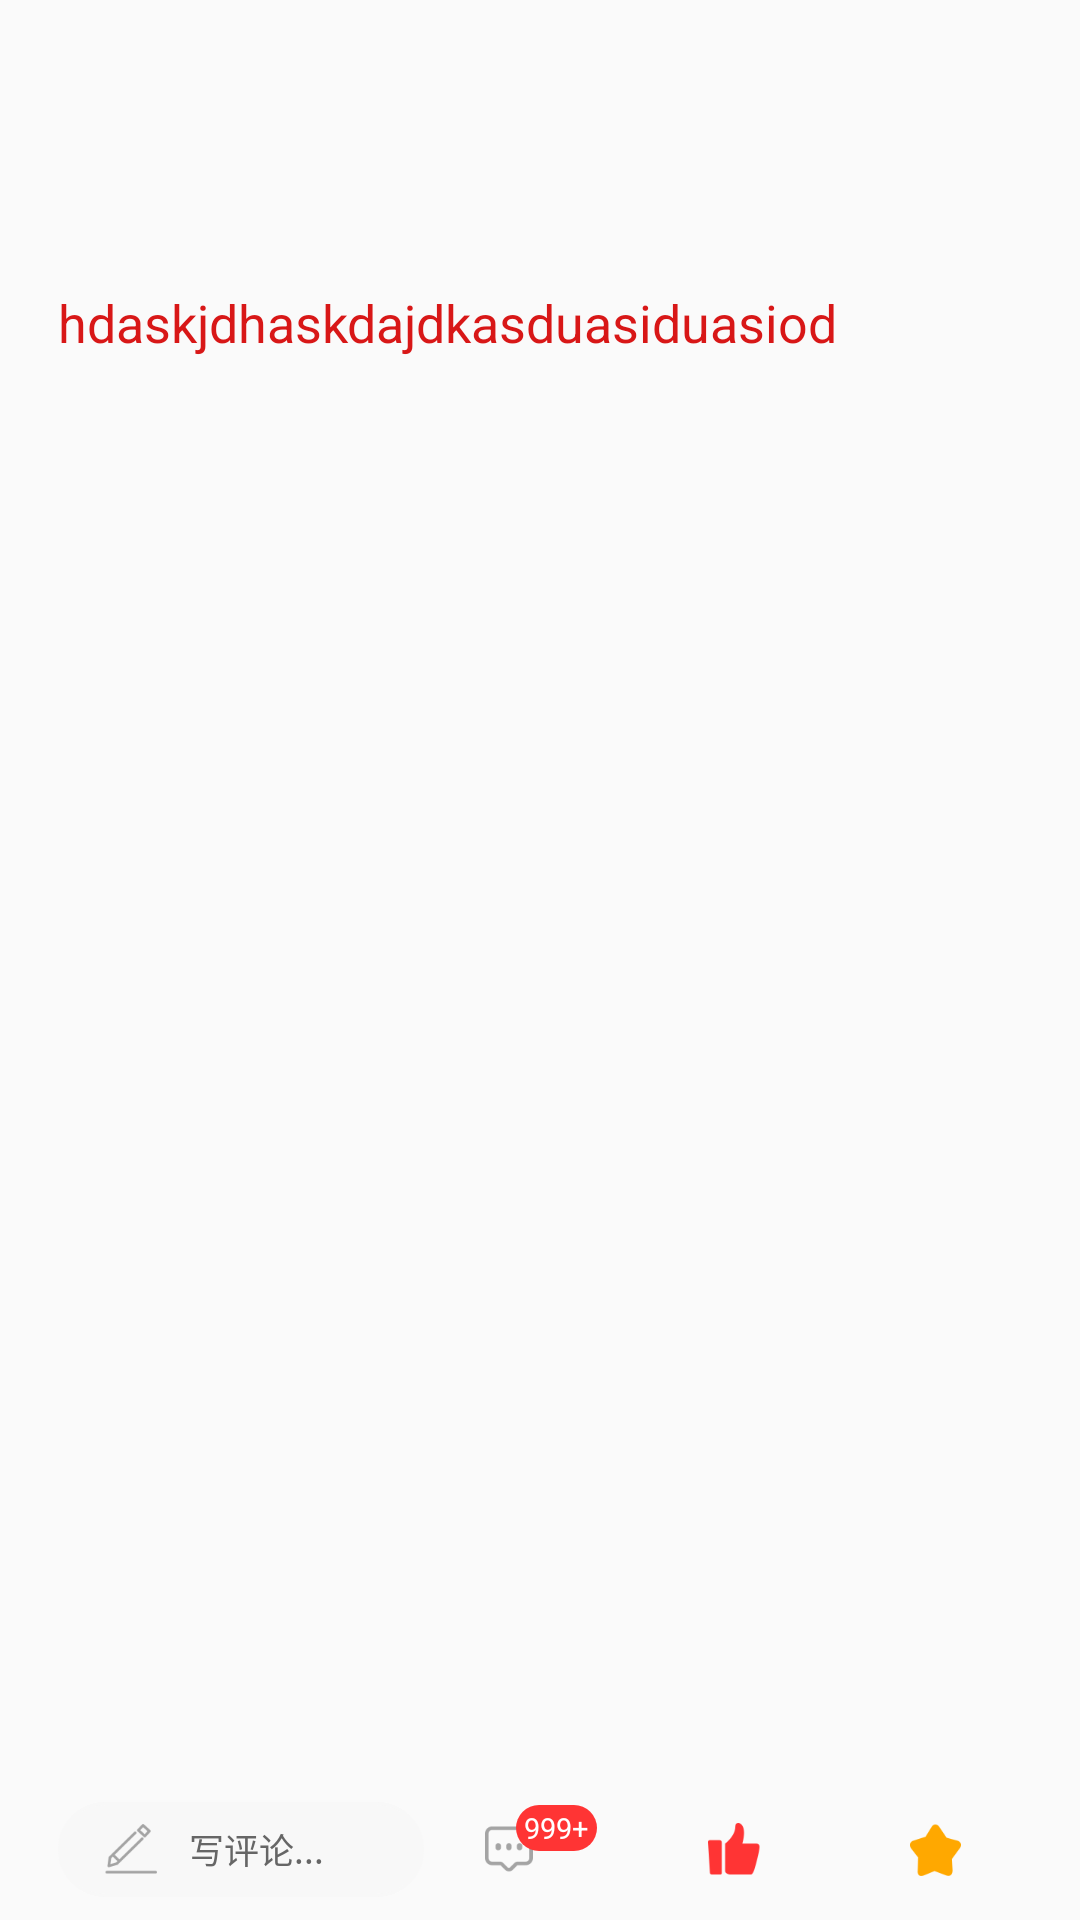

Icons on this 1080*1920 Android screen, each with its box as (x1, y1, x2, y2):
news add remark: (105, 1824, 157, 1874)
news collect: (910, 1824, 961, 1876)
news point: (708, 1823, 760, 1875)
